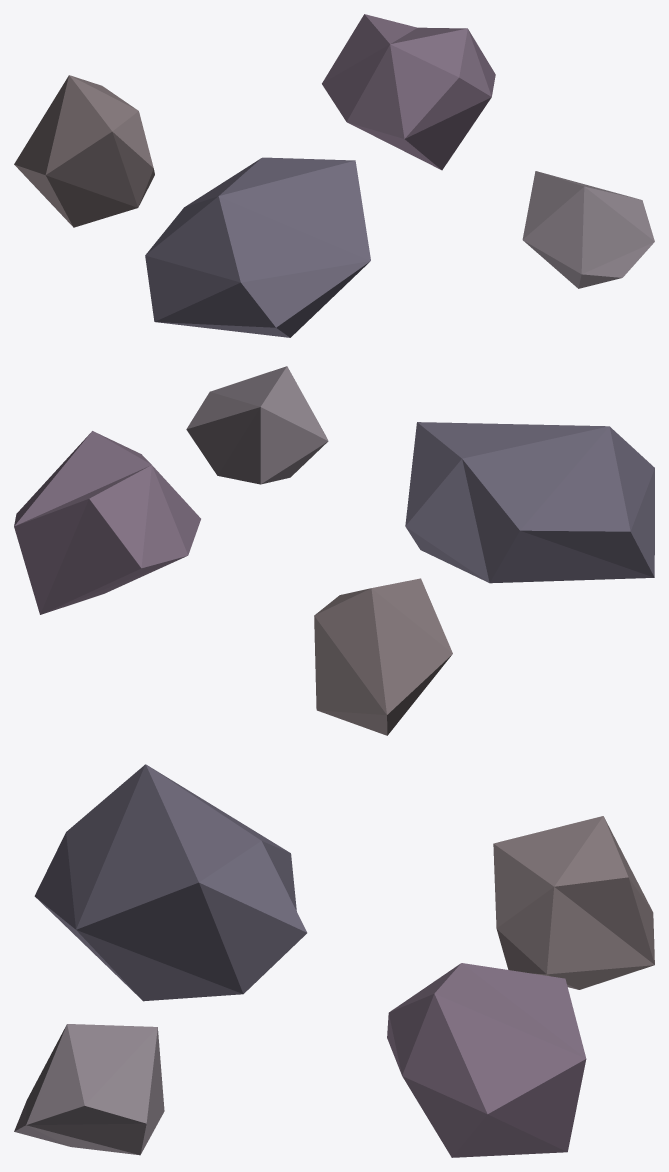
The model's file is rubble.glb.
3 views of the same model, one above another, from view 1: azimuth 30°, elevation 25°; view 2: azimuth 150°, elevation 25°; view 3: azimuth 270°, elevation 25° (orthographic). The views are drawn at different scales.
Parts seen in each view (by area): view 1: rubble; view 2: rubble; view 3: rubble.
Boxes of the visible parts, left/top/right/bottom form: rubble: left=14, top=14, right=654, bottom=337; rubble: left=14, top=366, right=654, bottom=735; rubble: left=14, top=764, right=654, bottom=1157.
Bounding box in the file's own units: 3.37 × 1.16 × 3.24.
Materials: 1 (1 with a texture image).
